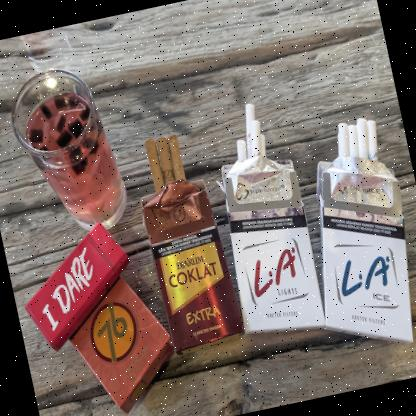bungkus rokok: (288, 133, 416, 359), (36, 238, 183, 416), (206, 142, 328, 338), (130, 165, 246, 361)
